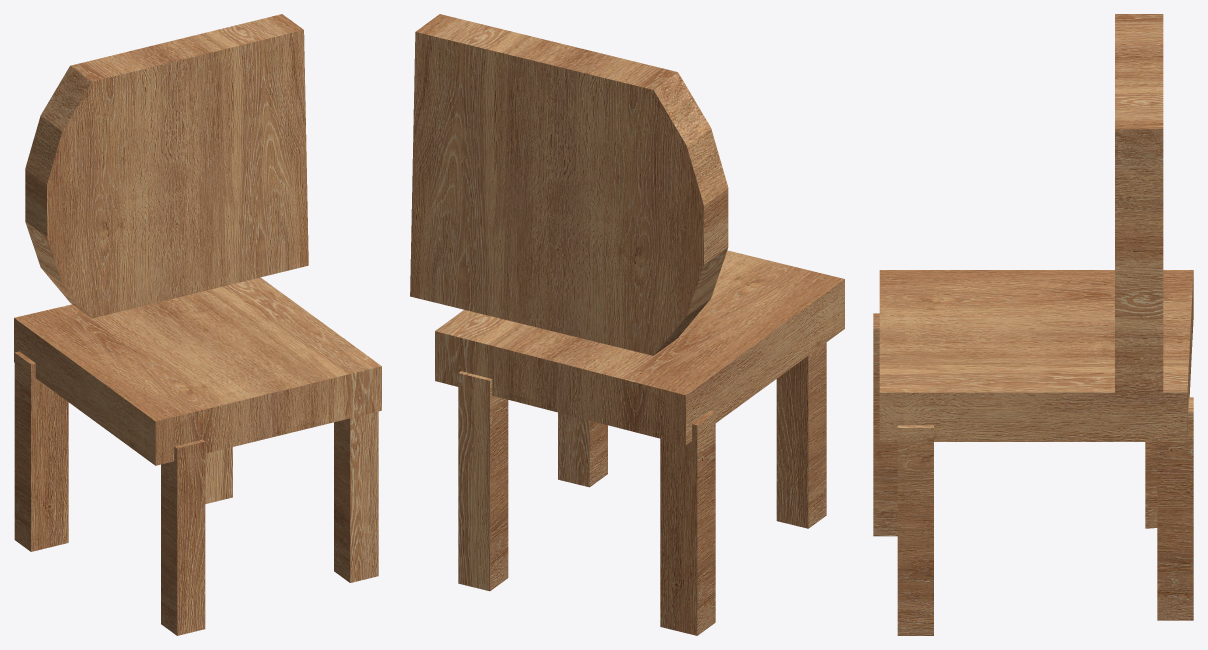
Rendered from 36957_deepcad-end2end.glb.
The picture shows the model from 3 angles, left to right: view 1: azimuth 30°, elevation 25°; view 2: azimuth 150°, elevation 25°; view 3: azimuth 270°, elevation 25°; orthographic projection. The views are drawn at different scales.
Visible parts, largest first — view 1: test_cmd_36957_pred; view 2: test_cmd_36957_pred; view 3: test_cmd_36957_pred.
Part boxes in pixels (left/top/right/bottom): test_cmd_36957_pred: left=14, top=14, right=381, bottom=635; test_cmd_36957_pred: left=410, top=14, right=844, bottom=635; test_cmd_36957_pred: left=873, top=14, right=1193, bottom=635.
Size of the model in its own units: 0.5895 by 1 by 0.5579.
1 material, 1 textured.
